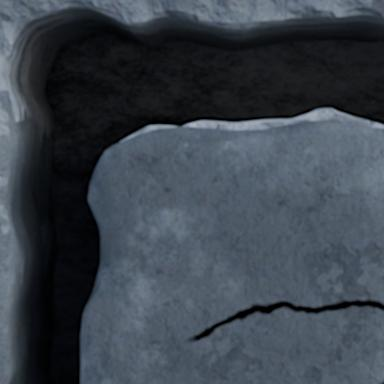broken_brick: (82, 120, 383, 383), (0, 90, 13, 383)
crack: (2, 0, 383, 383), (186, 299, 383, 343)
